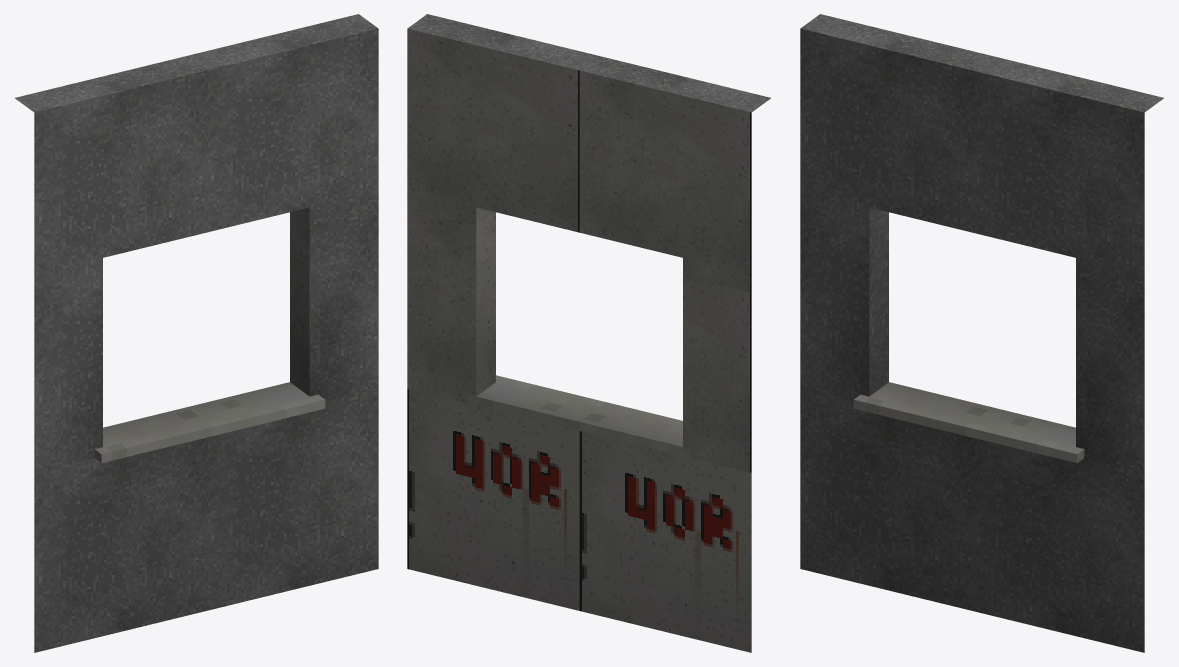
The model's file is wall_window_brick.glb.
3 views of the same model, side by side, from view 1: azimuth 30°, elevation 25°; view 2: azimuth 150°, elevation 25°; view 3: azimuth 330°, elevation 25° (orthographic).
Visible parts, largest first — view 1: wall_window_brick; view 2: wall_window_brick; view 3: wall_window_brick.
Part boxes in pixels (x1=…): wall_window_brick: x1=15, y1=14, x2=378, y2=652; wall_window_brick: x1=407, y1=14, x2=770, y2=652; wall_window_brick: x1=800, y1=14, x2=1163, y2=652.
Bounding box in the file's own units: 2 × 3 × 0.27.
